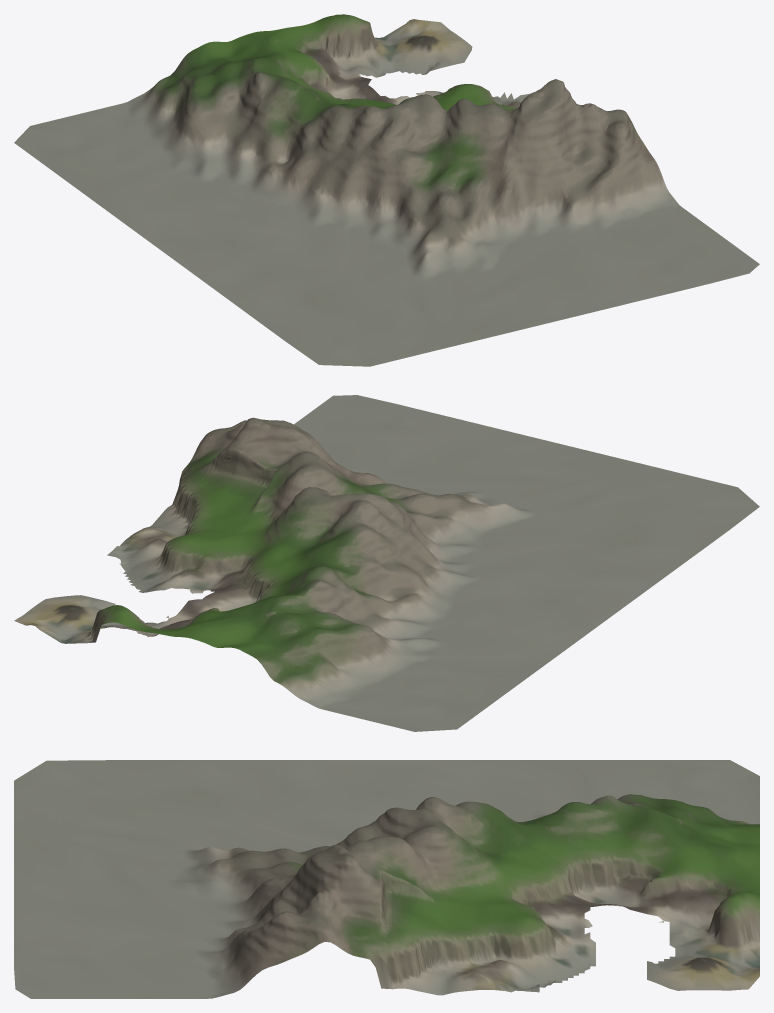
The model's file is coast_tile_x0z3_lod1.glb.
3 renders of one model, top to bottom at view 1: azimuth 30°, elevation 25°; view 2: azimuth 150°, elevation 25°; view 3: azimuth 270°, elevation 25°, orthographic. The views are drawn at different scales.
Parts seen in each view (by area): view 1: coast_tile_x0z3_lod1; view 2: coast_tile_x0z3_lod1; view 3: coast_tile_x0z3_lod1.
Part boxes in pixels (x1,y1,x2,y2): coast_tile_x0z3_lod1: (14, 14, 759, 366); coast_tile_x0z3_lod1: (14, 395, 759, 731); coast_tile_x0z3_lod1: (14, 760, 759, 998).
Size of the model in its own units: 600 by 127 by 792.
